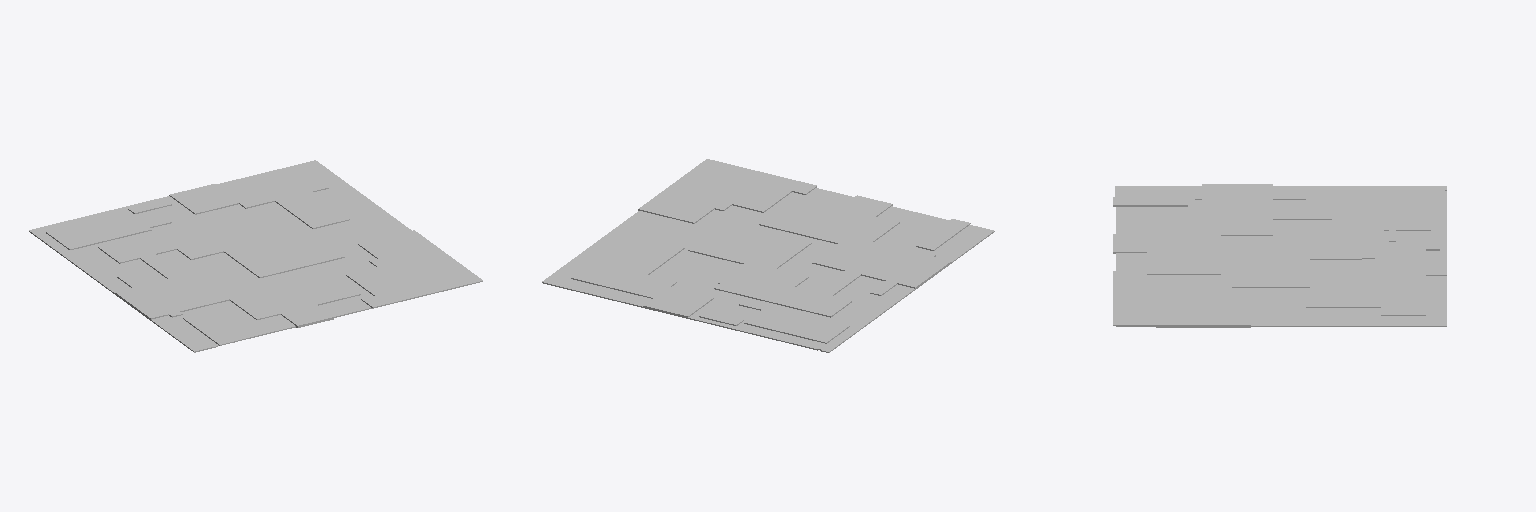
Rendered from Water.obj.
3 views of the same model, side by side, from view 1: azimuth 30°, elevation 25°; view 2: azimuth 150°, elevation 25°; view 3: azimuth 270°, elevation 25° (orthographic).
Parts seen in each view (by area): view 1: object 1; view 2: object 1; view 3: object 1.
Part boxes in pixels (x1,y1,x2,y2): object 1: (29, 160, 482, 352); object 1: (542, 159, 994, 352); object 1: (1113, 184, 1446, 327).
Size of the model in its own units: 25.6 by 0.2 by 25.6.